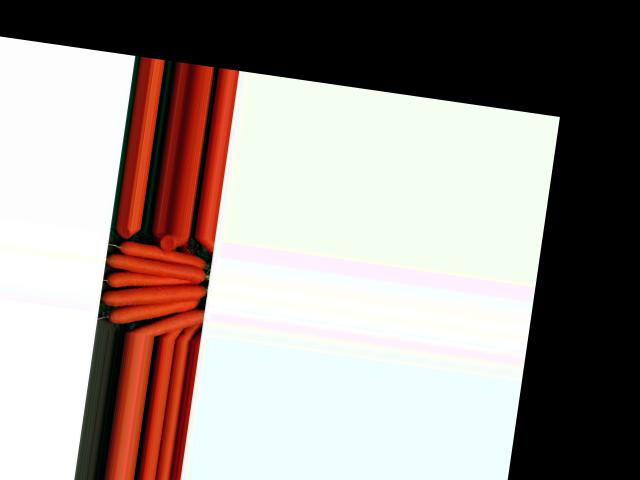carrot: (97, 269, 207, 315)
